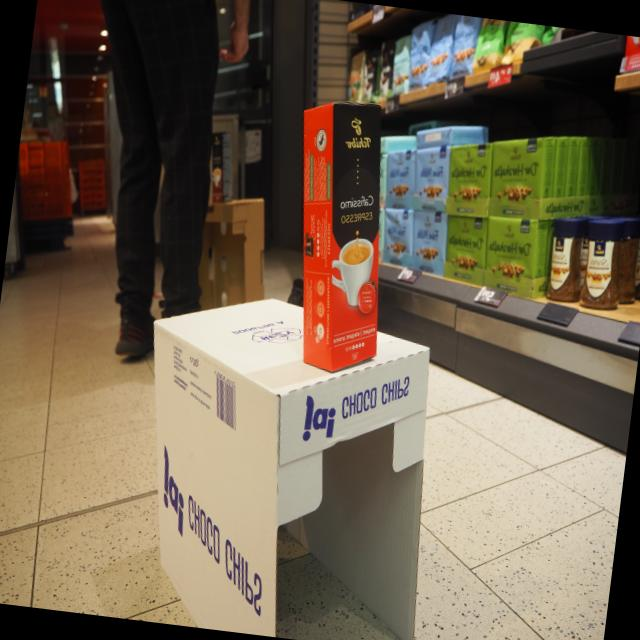Simo Es Elegant: (299, 88, 384, 389)
